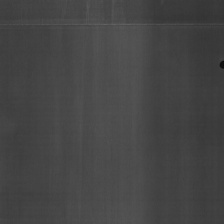welding_line: (0, 18, 224, 34)
